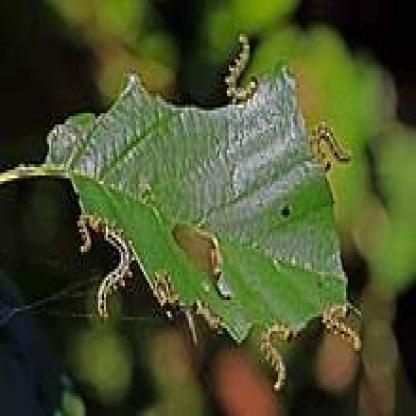sawfly: (92, 218, 135, 326), (319, 298, 366, 358), (257, 318, 294, 394), (222, 30, 260, 102), (309, 118, 354, 176), (75, 209, 104, 256), (193, 298, 227, 334), (153, 265, 178, 313)
